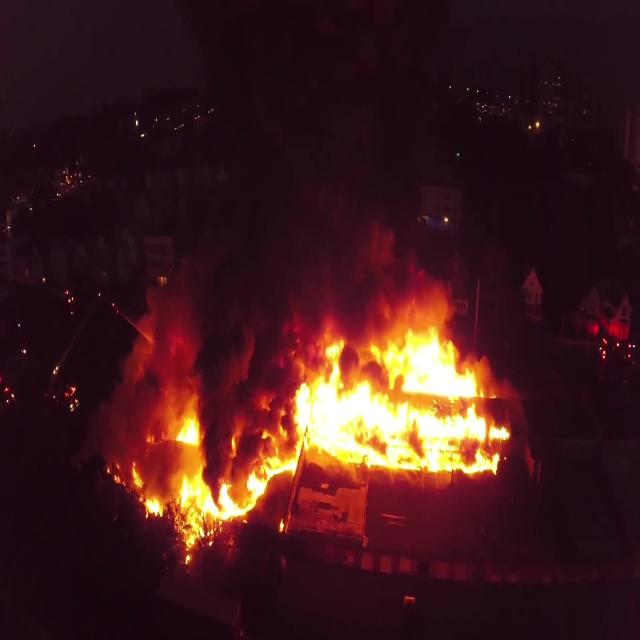Fire: (118, 320, 508, 527)
Smoke: (158, 8, 452, 325)
